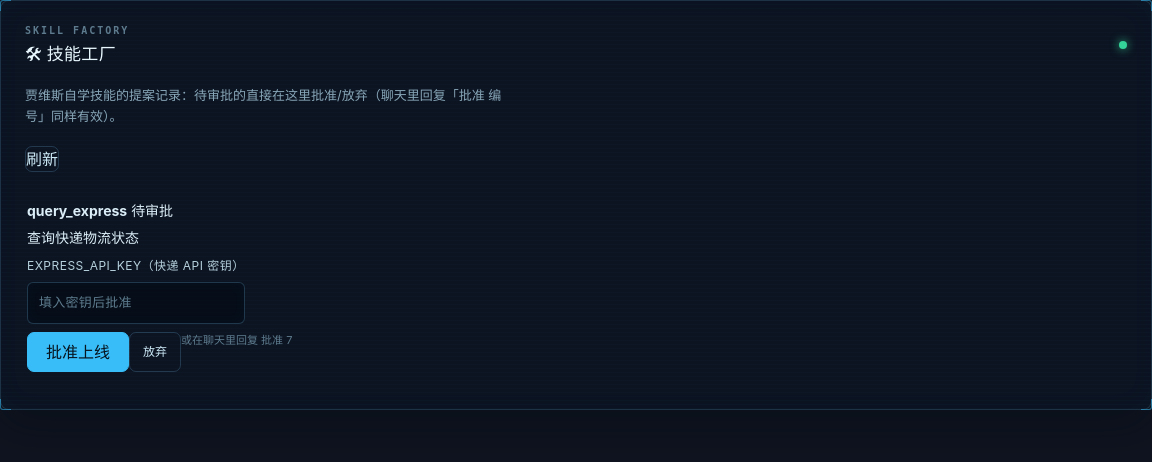
Test: SkillsSection 审批卡 › 放弃：调 reject 并刷新
Expected: the text "query_express" is shown, x1=27 y1=202 x2=127 y2=219
Click the button "放弃".
click(155, 352)  # box x1=129 y1=332 x2=181 y2=372
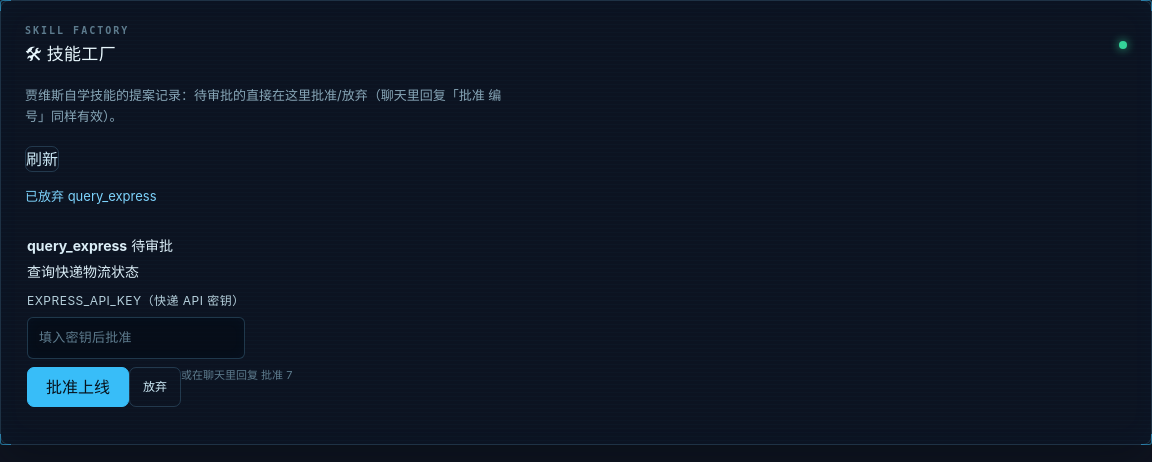
Result: the text "已放弃 query_express" is shown at x1=25 y1=188 x2=156 y2=204
